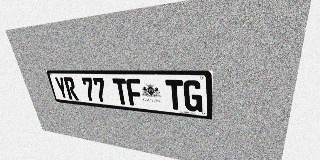7: (81, 77, 97, 102), (92, 78, 108, 103)
F: (126, 78, 143, 106)
G: (183, 80, 202, 112)
R: (63, 77, 79, 100)
T: (165, 79, 184, 110), (112, 78, 129, 105)
Y: (54, 77, 69, 99)
